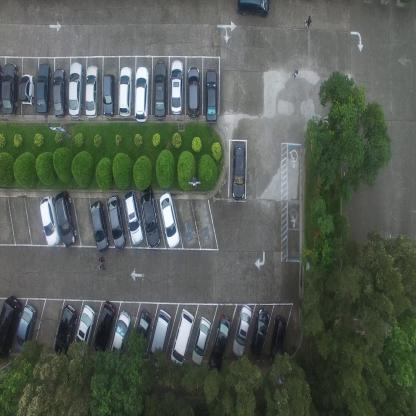car: (0, 293, 23, 361), (206, 314, 231, 374), (170, 308, 194, 367), (54, 190, 77, 248), (53, 302, 77, 357), (148, 307, 171, 364), (140, 184, 160, 247), (94, 299, 116, 356), (73, 304, 95, 360), (108, 309, 131, 362), (159, 191, 180, 249), (13, 302, 36, 354), (230, 304, 252, 358), (124, 189, 144, 244), (248, 308, 269, 360), (39, 196, 60, 248), (268, 316, 288, 369), (90, 199, 110, 252), (107, 195, 126, 250), (190, 316, 210, 367), (132, 308, 152, 359), (231, 139, 247, 202), (1, 61, 19, 116), (67, 60, 84, 118), (134, 65, 149, 123), (153, 58, 167, 119), (204, 68, 219, 124), (170, 57, 184, 115), (36, 62, 51, 116), (118, 66, 133, 118), (85, 63, 99, 118), (186, 65, 200, 118), (235, 0, 270, 21), (52, 67, 66, 118), (102, 72, 116, 116), (18, 73, 34, 107)
